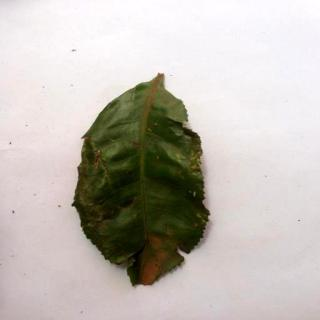Algal Leaf: (76, 72, 211, 287)
